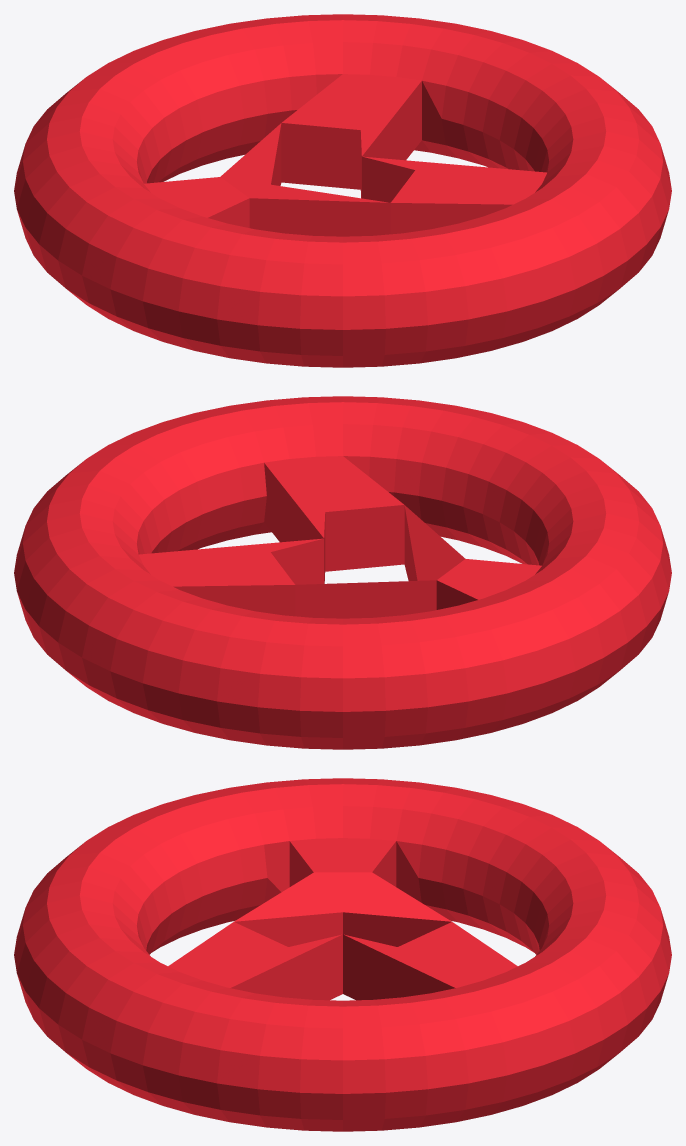
File: Valve.glb
The picture shows the model from 3 angles, top to bottom: view 1: azimuth 30°, elevation 25°; view 2: azimuth 150°, elevation 25°; view 3: azimuth 270°, elevation 25°; orthographic projection.
Parts seen in each view (by area): view 1: Torus; view 2: Torus; view 3: Torus.
Part boxes in pixels (x1,y1,x2,y2): Torus: (14, 14, 671, 367); Torus: (14, 396, 671, 749); Torus: (14, 778, 671, 1131).
Size of the model in its own units: 2.5 by 0.5 by 2.5.
